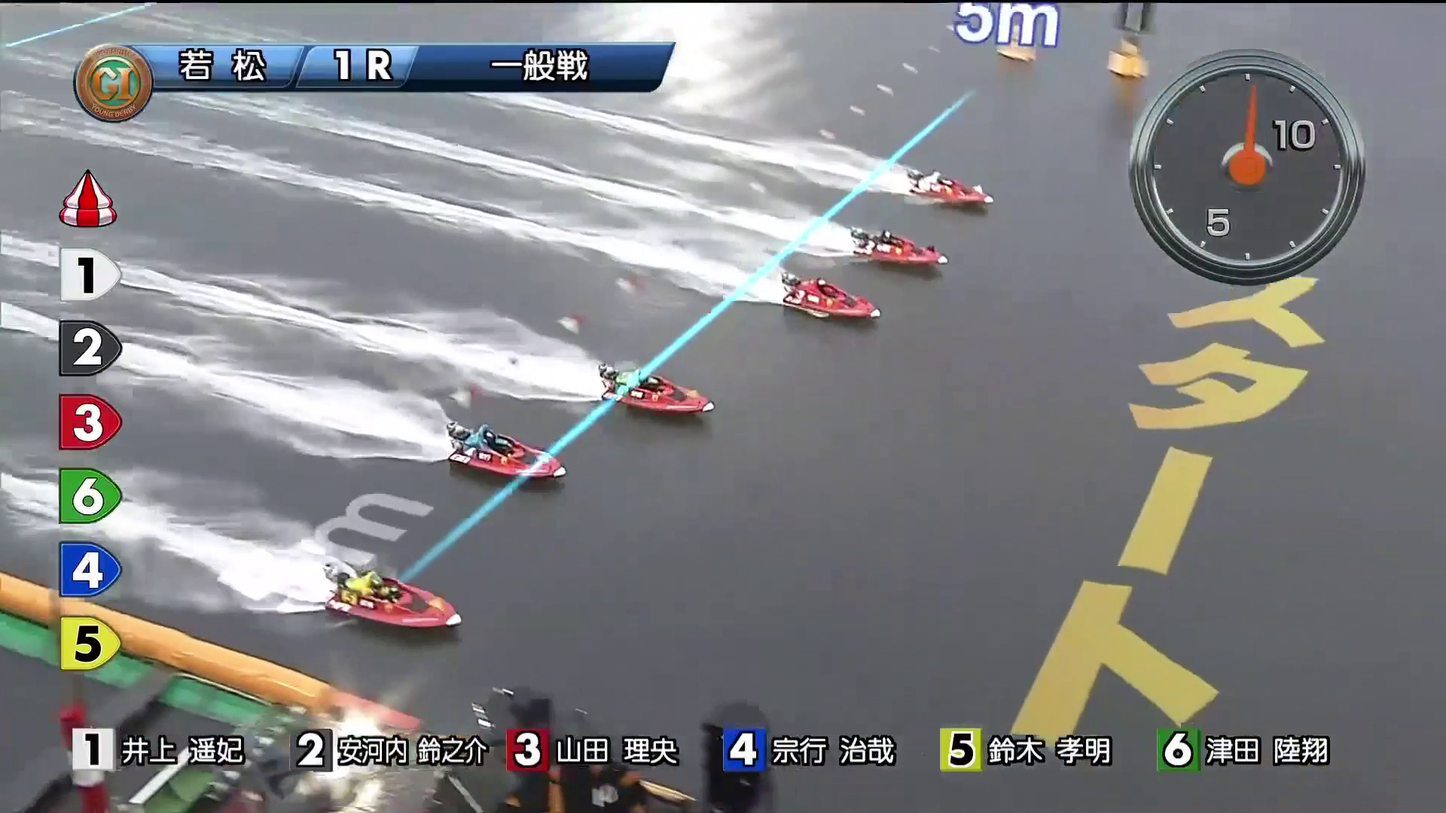１号艇: (864, 181, 940, 228)
２号艇: (866, 240, 928, 278)
３号艇: (801, 284, 856, 325)
４号艇: (634, 375, 698, 418)
５号艇: (499, 454, 567, 492)
６号艇: (419, 604, 484, 650)
